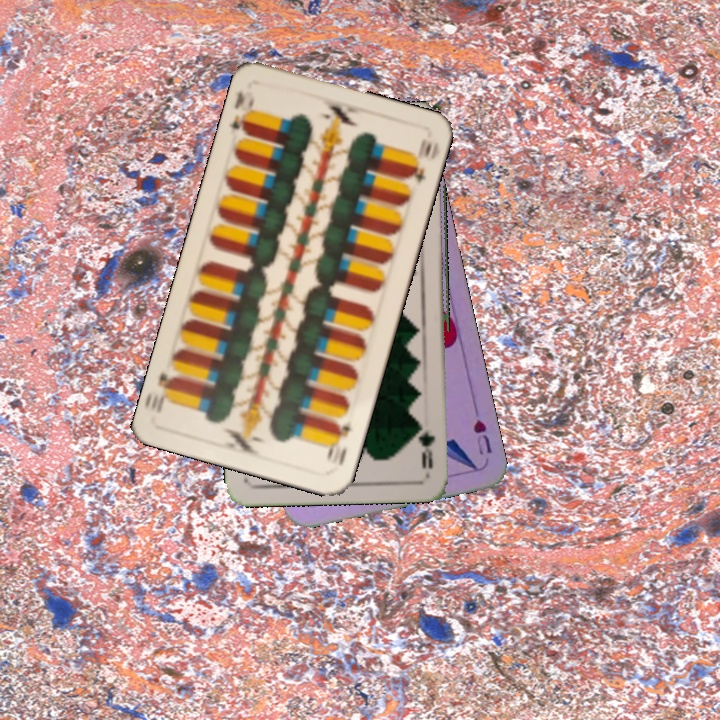E10: (225, 87, 258, 138), (322, 416, 353, 469)
G9: (416, 420, 438, 472)
HU: (469, 415, 495, 458)
